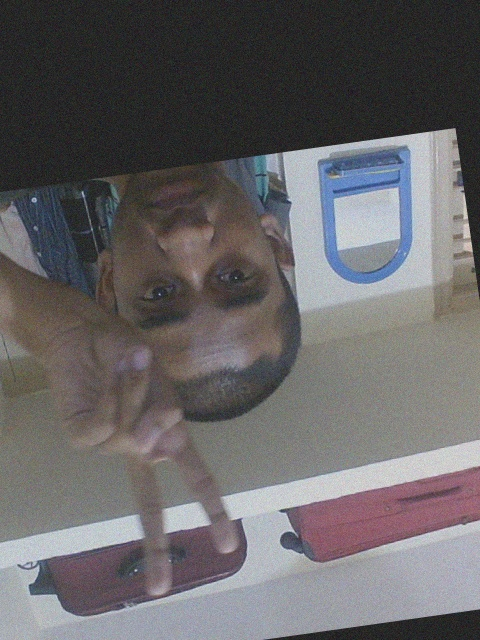hand: (3, 292, 247, 603)
